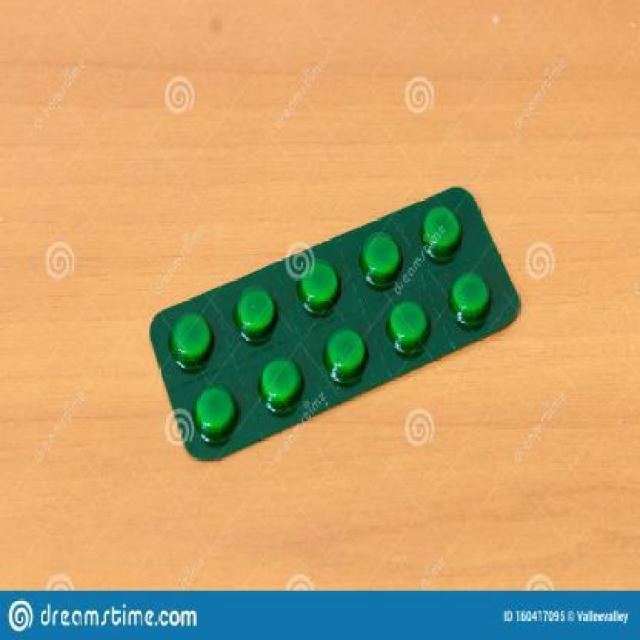B3: (147, 184, 524, 461)
